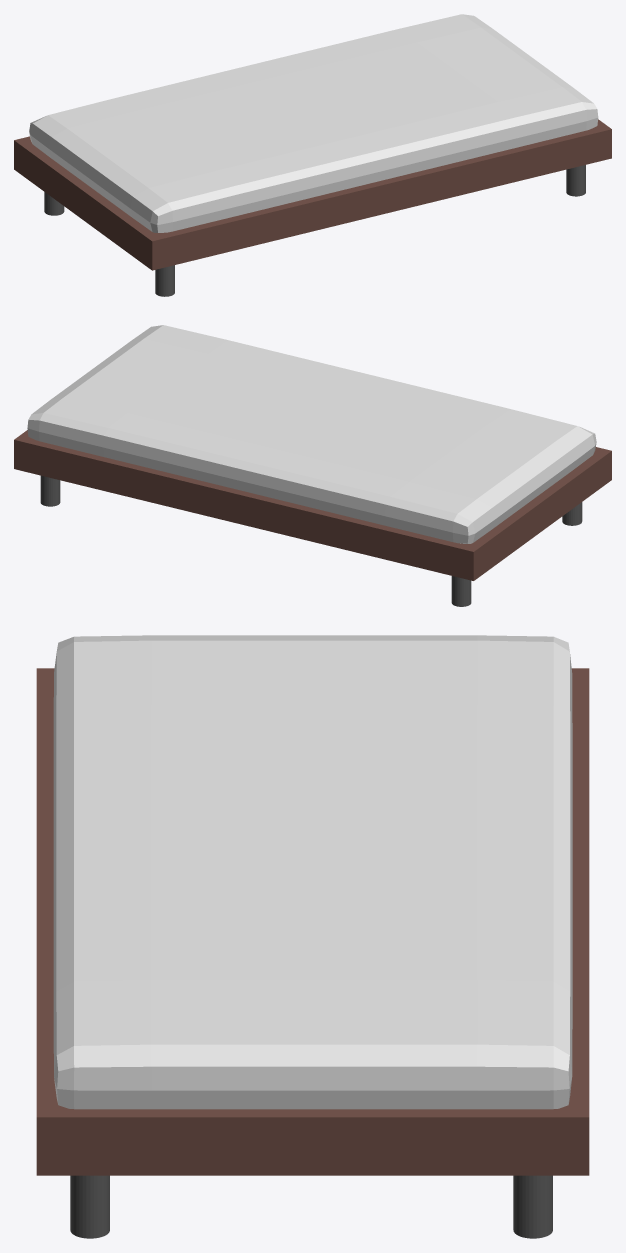
Rendered from bed.fbx.
3 renders of one model, top to bottom at view 1: azimuth 30°, elevation 25°; view 2: azimuth 150°, elevation 25°; view 3: azimuth 270°, elevation 25°, orthographic. The views are drawn at different scales.
Visible parts, largest first — view 1: Matress, BedFrame, Piedini; view 2: Matress, BedFrame, Piedini; view 3: Matress, BedFrame, Piedini.
Boxes of the visible parts, x1,y1,x2,y2 form: Matress: (29, 14, 598, 232); BedFrame: (14, 119, 611, 270); Piedini: (44, 165, 585, 296); Matress: (27, 325, 596, 543); BedFrame: (14, 430, 611, 580); Piedini: (40, 475, 582, 606); Matress: (53, 635, 572, 1109); BedFrame: (36, 668, 589, 1175); Piedini: (70, 1175, 552, 1238).
Bounding box in the file's own units: 504 × 98.81 × 262.
